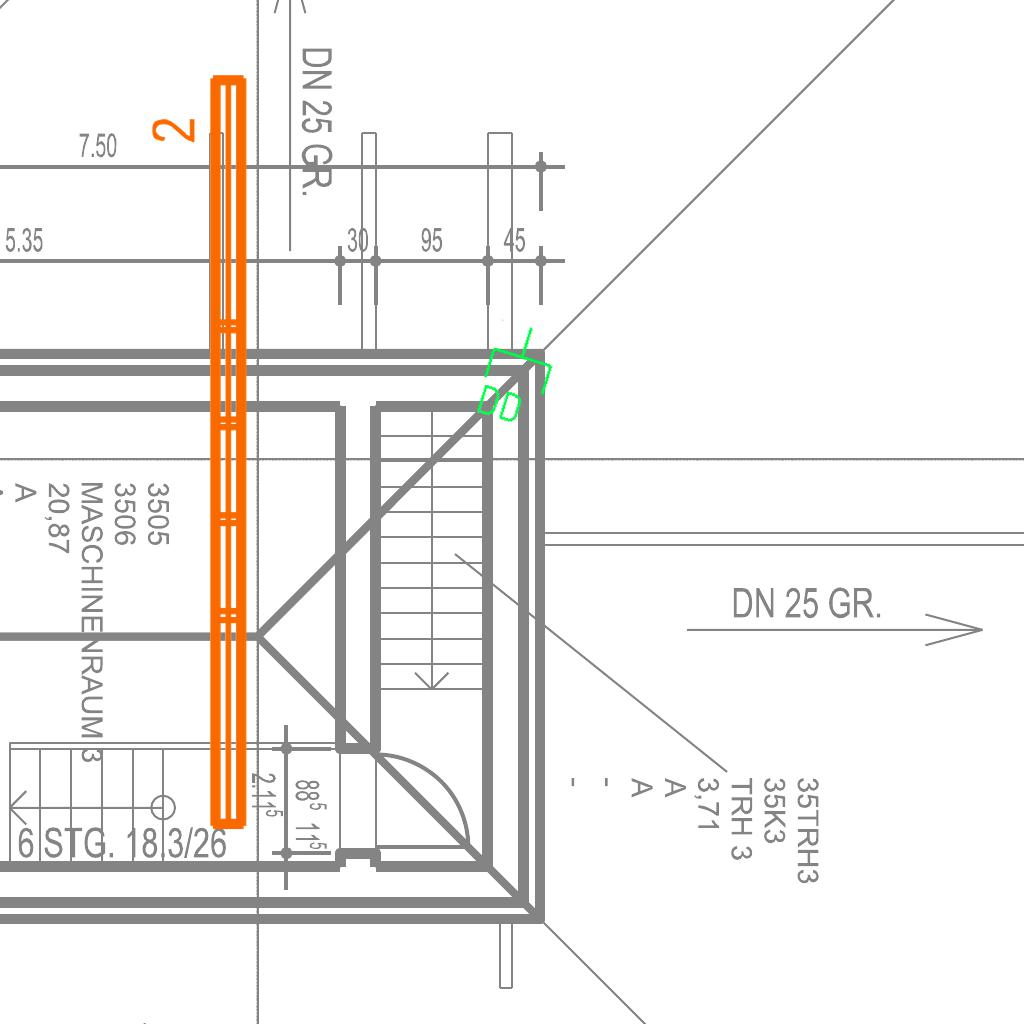Ambulanz_Pendelleuchte_LED: (147, 66, 259, 840)
Datenanschluss_zweifach: (468, 315, 565, 434)
